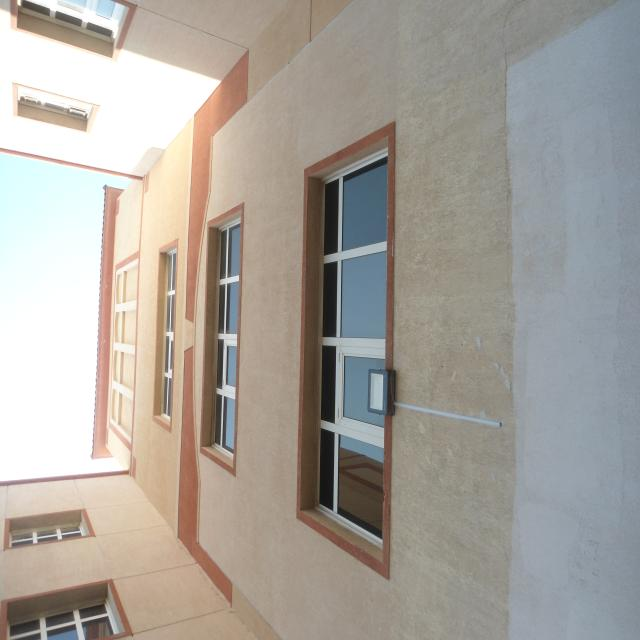window: (302, 127, 400, 546), (195, 205, 247, 468), (4, 603, 124, 640), (158, 244, 176, 431), (10, 516, 96, 550)
